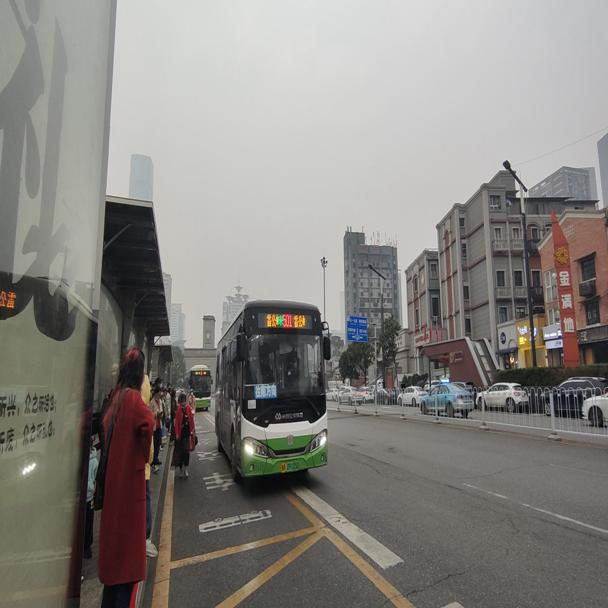bus: (213, 297, 332, 477), (186, 362, 209, 412)
screen: (281, 310, 291, 328)
